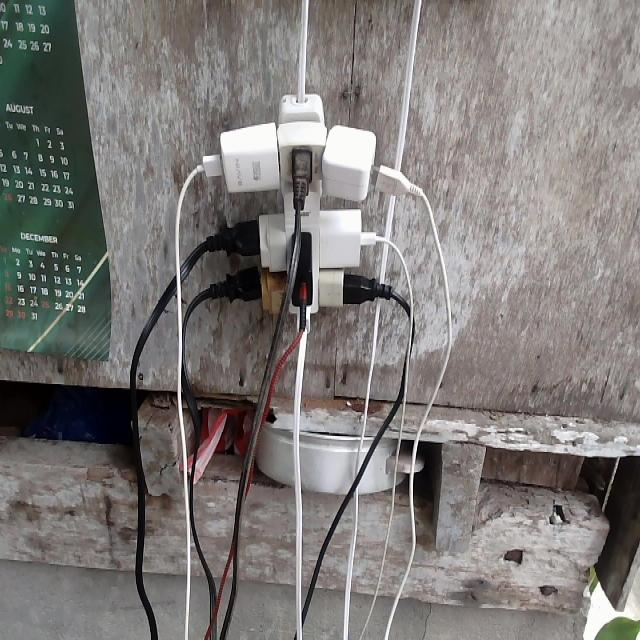-: (198, 92, 394, 329)
